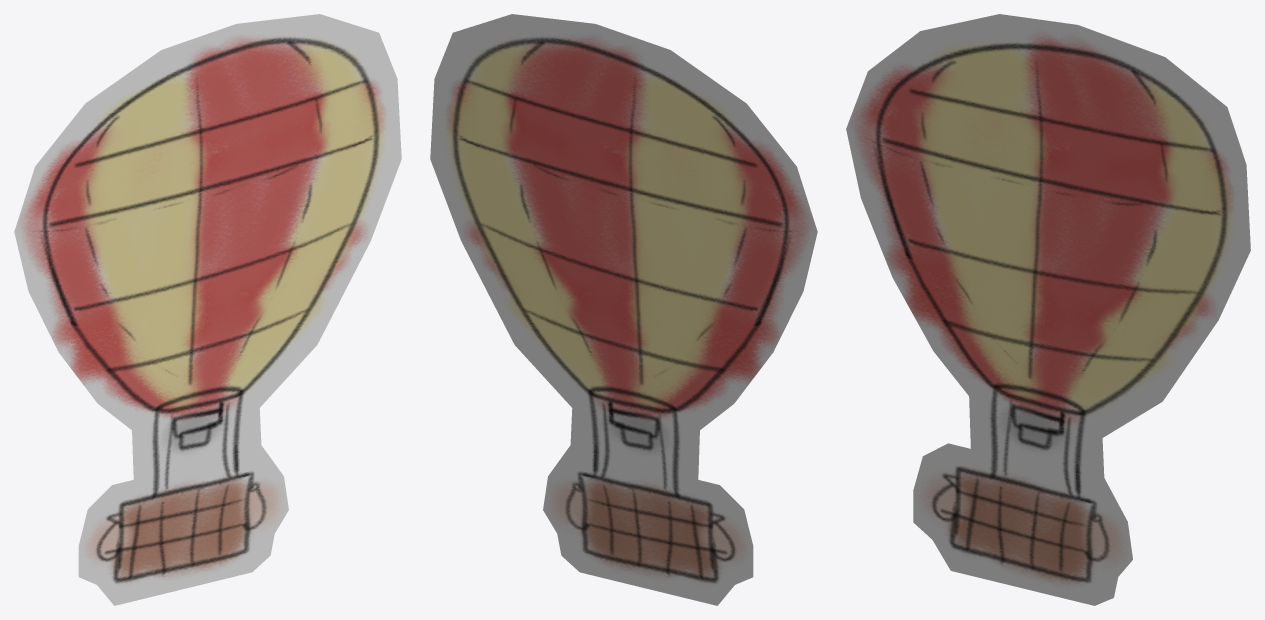
File: Luftballong.fbx
3 views of the same model, side by side, from view 1: azimuth 30°, elevation 25°; view 2: azimuth 150°, elevation 25°; view 3: azimuth 330°, elevation 25° (orthographic). The views are drawn at different scales.
Parts seen in each view (by area): view 1: Luftballong; view 2: Luftballong; view 3: Luftballong.
Part boxes in pixels (box(x1,y1,x2,y2)): Luftballong: box(14, 14, 401, 605); Luftballong: box(430, 14, 817, 605); Luftballong: box(846, 14, 1250, 605).
Size of the model in its own units: 27.5 by 37.45 by 6.1e-06.
Materials: 1 (1 with a texture image).
